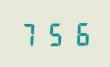five: (43, 20, 66, 46)
seven: (18, 20, 41, 47)
six: (67, 19, 90, 46)
